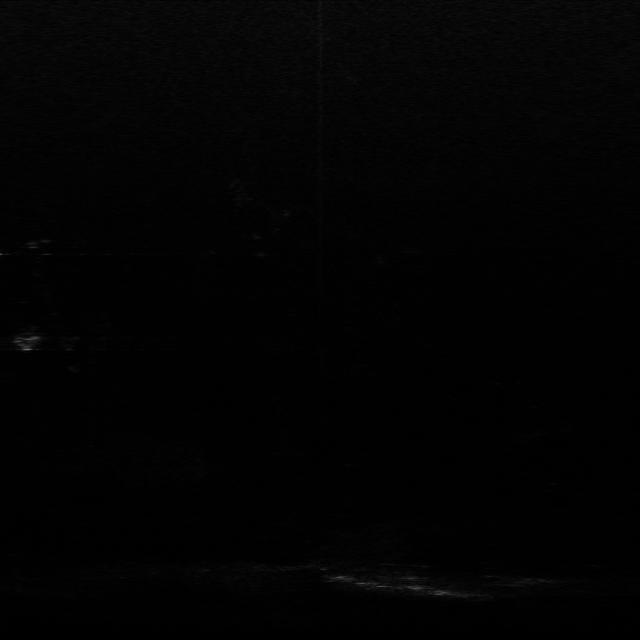rov: (12, 332, 47, 352)
